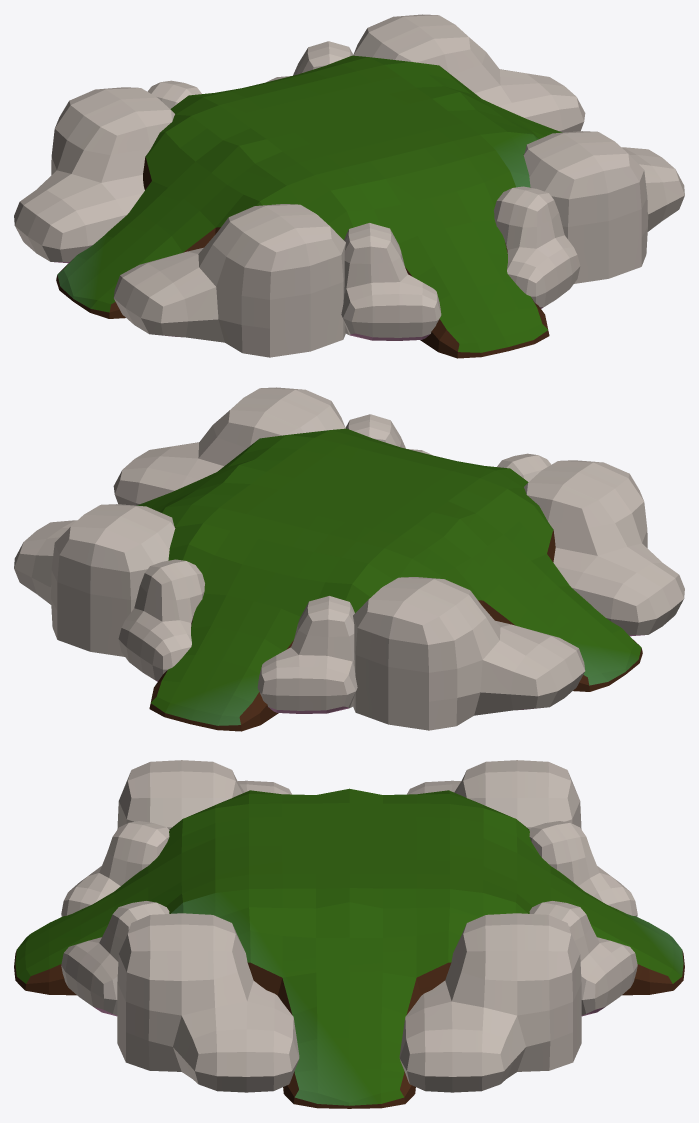
File: Hil_1.glb
The picture shows the model from 3 angles, top to bottom: view 1: azimuth 30°, elevation 25°; view 2: azimuth 150°, elevation 25°; view 3: azimuth 270°, elevation 25°; orthographic projection. The views are drawn at different scales.
Visible parts, largest first — view 1: Cube, Plane; view 2: Cube, Plane; view 3: Plane, Cube.
Part boxes in pixels (<box>): Cube: <box>14,14,684,357</box>; Plane: <box>56,55,562,358</box>; Cube: <box>14,387,684,730</box>; Plane: <box>136,428,642,731</box>; Plane: <box>14,788,684,1108</box>; Cube: <box>61,760,637,1092</box>.
Bounding box in the file's own units: 10 × 2 × 10.
1 material, 1 textured.
